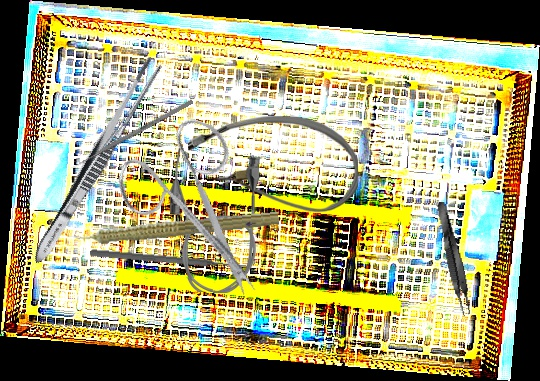Cannula: (188, 116, 358, 213), (168, 147, 260, 294)
Dressing Forceps: (27, 53, 165, 269)
Handpiece: (61, 202, 280, 252)
Iris Scissors: (95, 101, 305, 299)
Pusher: (70, 98, 194, 171), (89, 247, 254, 273)
Tissue Forceps: (432, 200, 476, 317)
